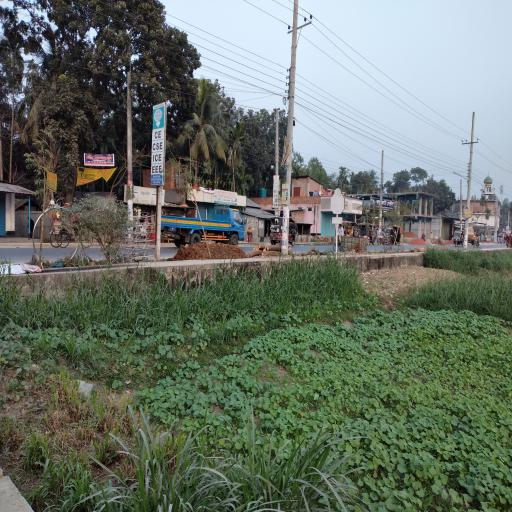auto rickshaw: (271, 217, 300, 248), (360, 224, 379, 247), (344, 221, 361, 239), (454, 230, 466, 248), (383, 227, 391, 246), (497, 236, 504, 245)
bicycle: (379, 230, 386, 246)
motorbike: (474, 235, 482, 250)
rickshaw: (50, 204, 95, 250), (333, 223, 355, 252), (387, 226, 404, 251)
truck: (161, 205, 246, 247), (464, 227, 477, 246)
